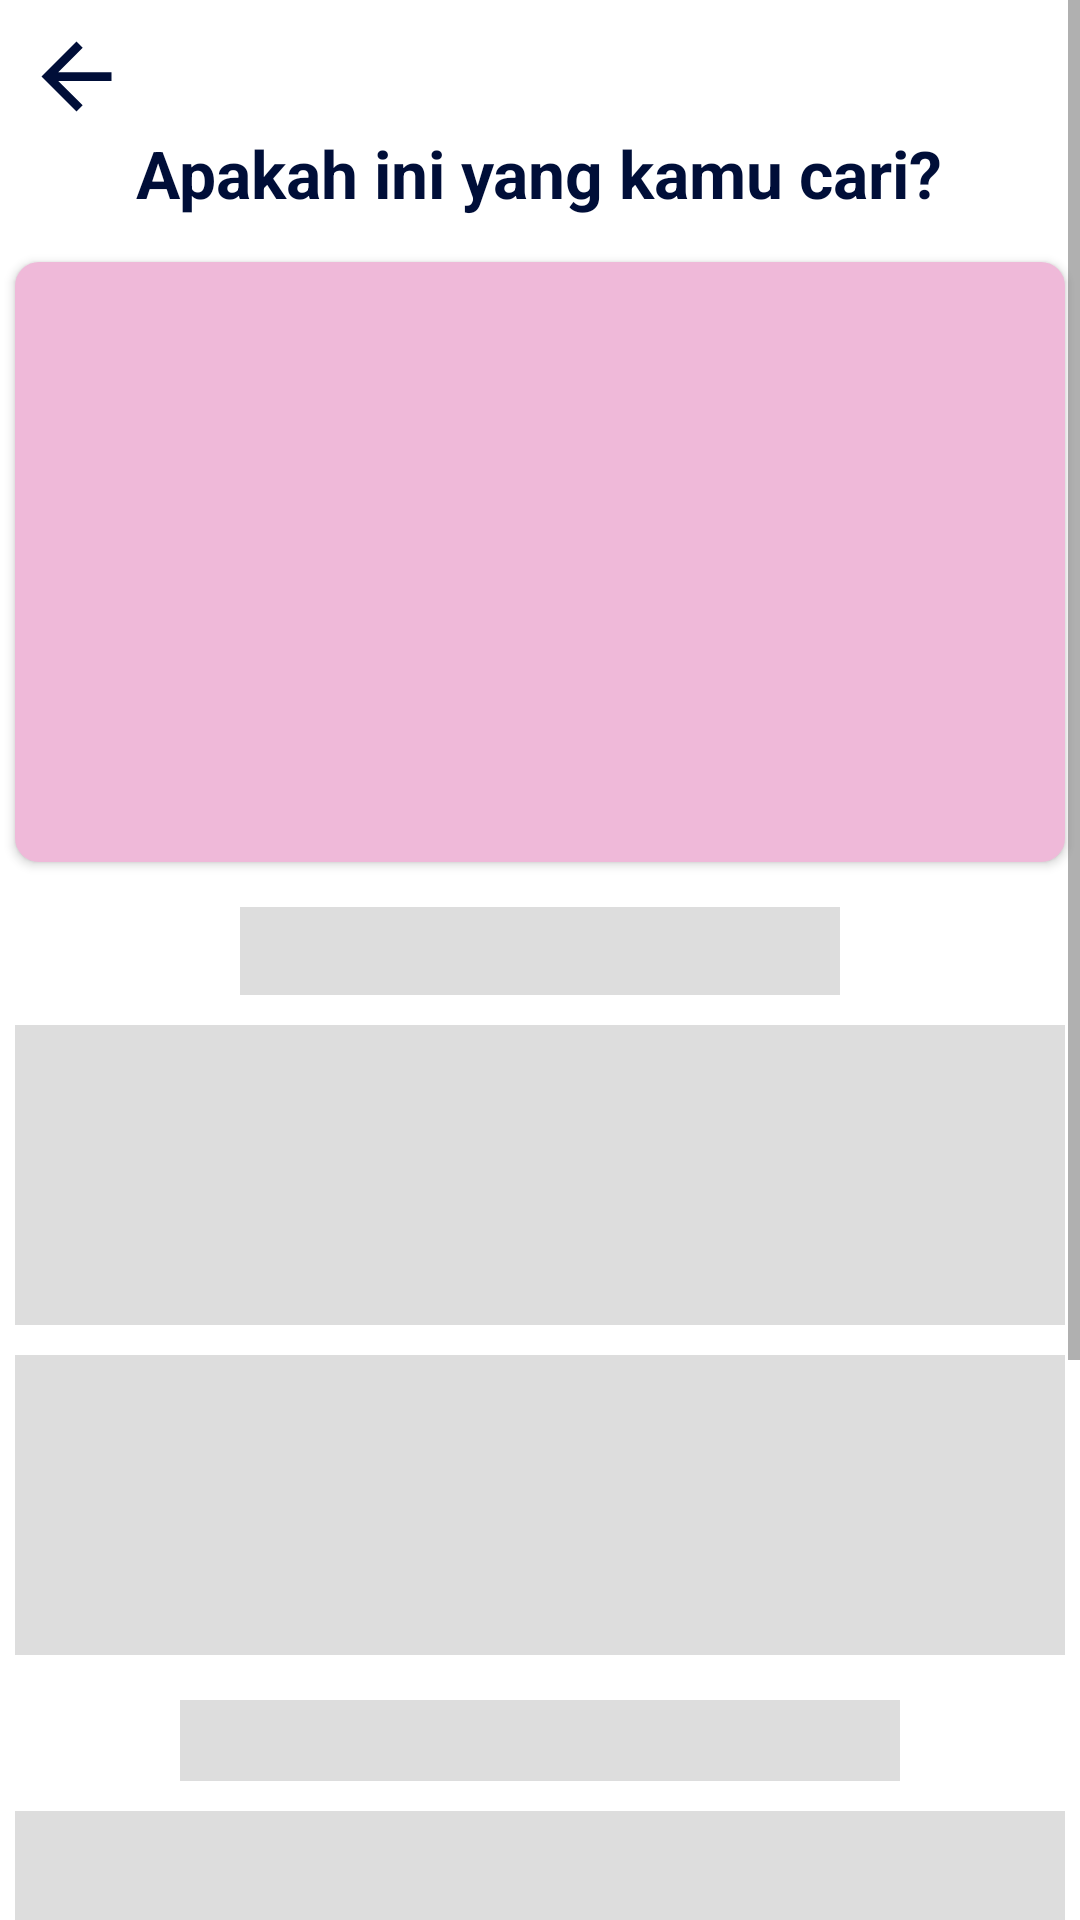

Point at icon controls on the screen. Image size 1080 x 1920, points as (x,y).
arrow back: (76,76)
